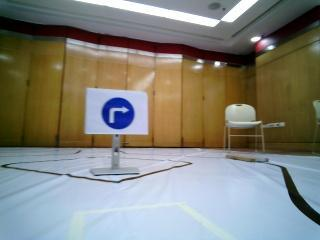right: (85, 85, 148, 136)
